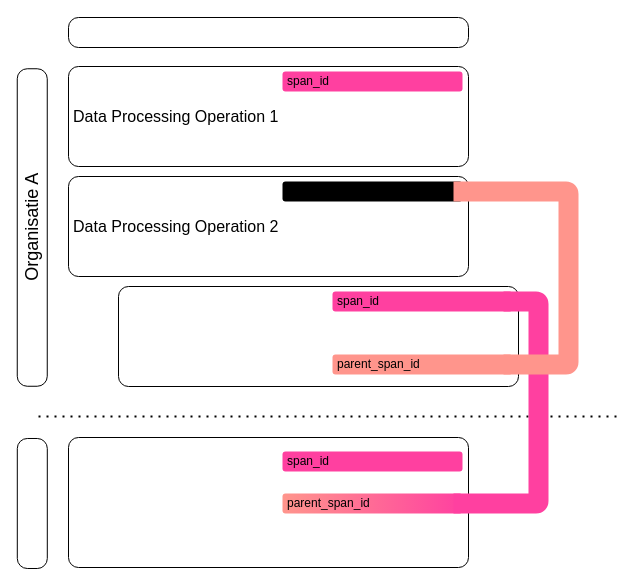
The diagram is 636 pixels wide and 586 high, and some of its shapes have lost their labels. Here are the shapes that lost their labels. From the top down, the box of each, then its label:
(68, 16, 468, 48): Logboek
(118, 286, 518, 386): Data Processing Operation 2a
(16, 438, 47, 568): Organisatie B
(68, 436, 468, 568): Data Processing Operation 3
